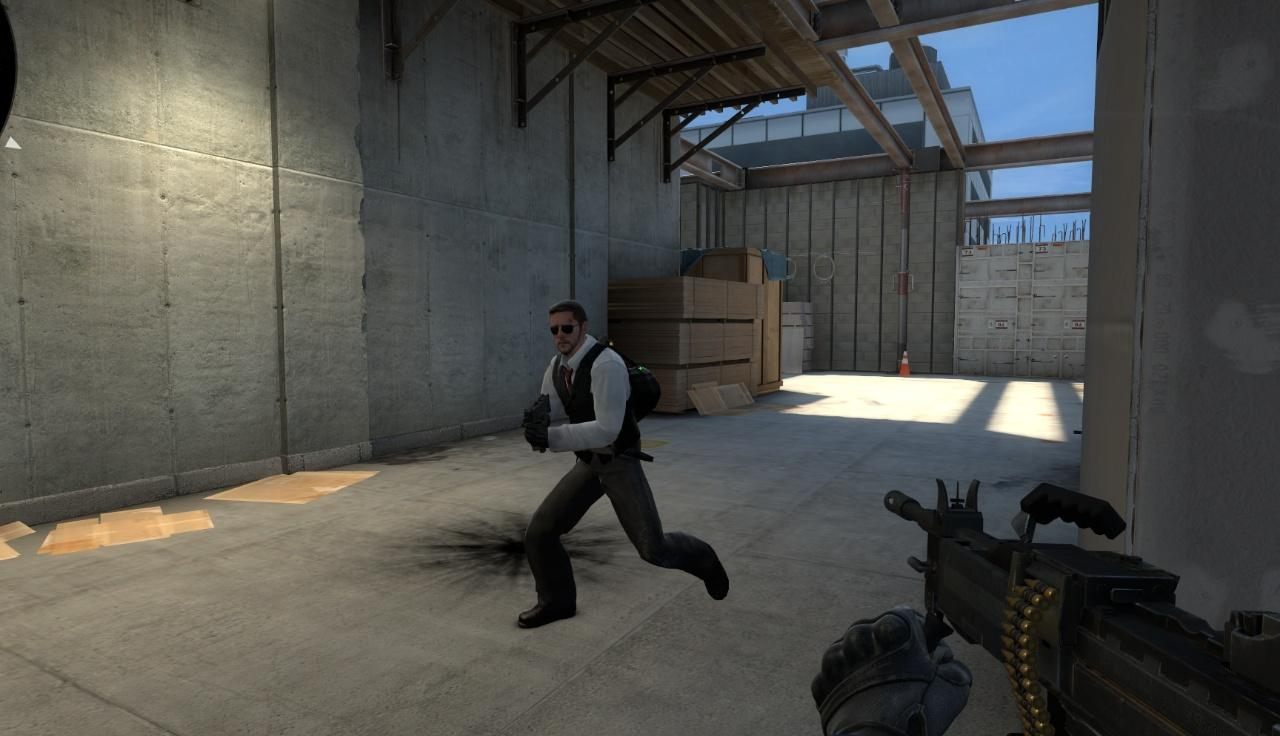rifle: (857, 476, 1280, 736)
tt: (519, 301, 727, 627)
tthead: (550, 302, 586, 354)
